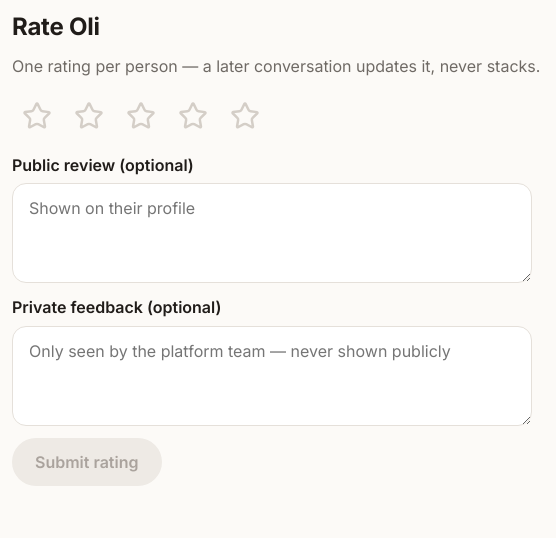
it: RatingPanel form behaviour › 6. a new rating submits score, comments and nothing else
Click the radio button named "4 stars" at {"x": 193, "y": 116}, box [168, 91, 218, 141]
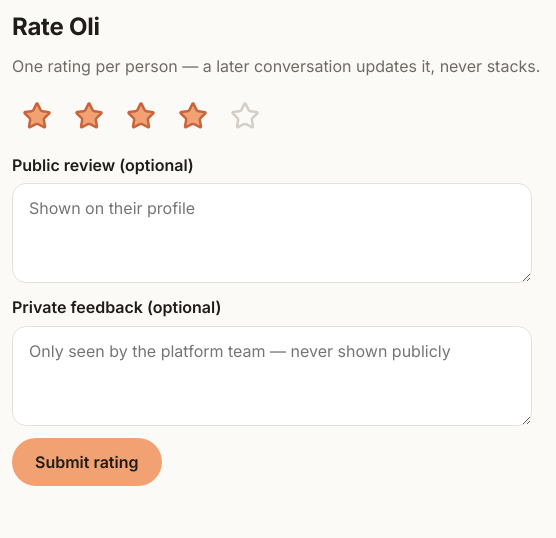
Type "Great chat" into the text box with placeholder "Shown on their profile" at {"x": 272, "y": 233}, box [12, 183, 532, 283]
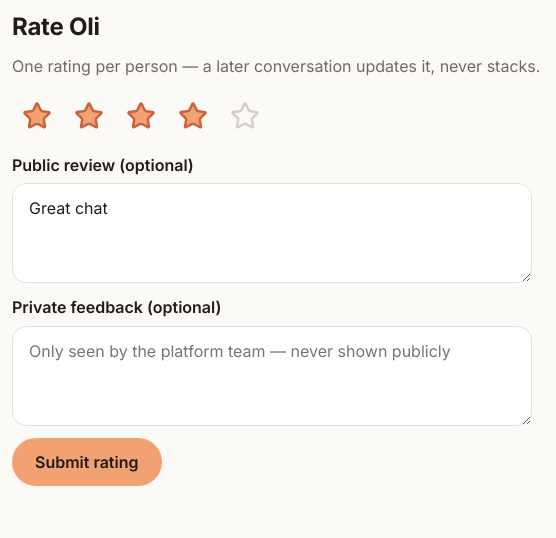
Type "All fine" into the text box with placeholder "Only seen by the platform team — never shown publicly" at {"x": 272, "y": 376}, box [12, 326, 532, 426]
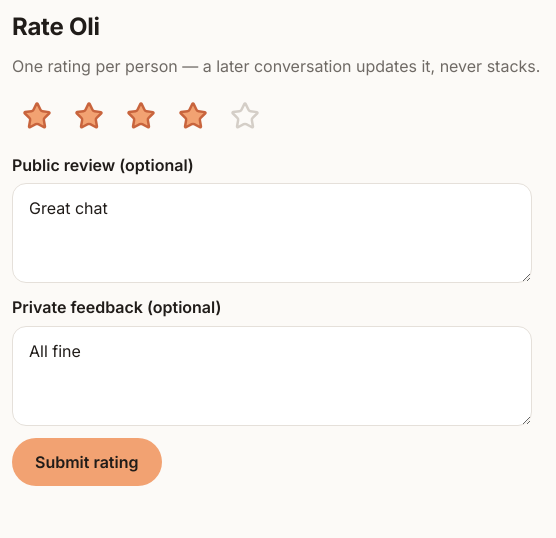
Click the button "Submit rating" at {"x": 87, "y": 462}, box [12, 438, 162, 486]
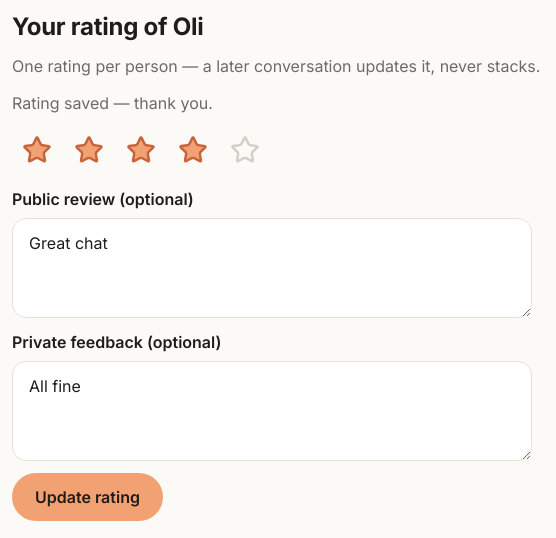
Now the message "Rating saved — thank you." is shown, box [12, 93, 213, 113]
